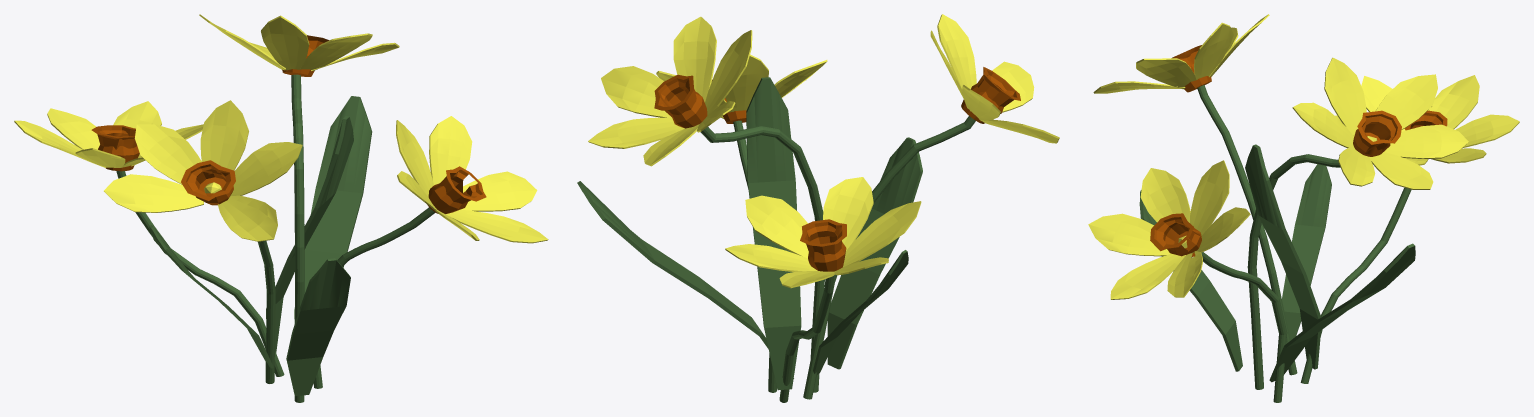
File: flower_with_leaves.fbx
3 views of the same model, side by side, from view 1: azimuth 30°, elevation 25°; view 2: azimuth 150°, elevation 25°; view 3: azimuth 270°, elevation 25° (orthographic). The views are drawn at different scales.
Visible parts, largest first — view 1: polySurface13, polySurface8, polySurface1, polySurface10, polySurface12; view 2: polySurface13, polySurface10, polySurface1, polySurface8, polySurface12; view 3: polySurface13, polySurface10, polySurface12, polySurface8, polySurface1.
Boxes of the visible parts, box(x1,y1,x2,y2) form: polySurface13: box(14, 14, 548, 402); polySurface8: box(294, 96, 372, 323); polySurface1: box(286, 258, 350, 396); polySurface10: box(266, 116, 353, 352); polySurface12: box(149, 225, 273, 368); polySurface13: box(588, 14, 1059, 402); polySurface10: box(746, 77, 801, 390); polySurface1: box(827, 137, 922, 369); polySurface8: box(577, 181, 793, 378); polySurface12: box(813, 250, 908, 374); polySurface13: box(1088, 14, 1519, 402); polySurface10: box(1245, 144, 1321, 369); polySurface12: box(1282, 164, 1331, 340); polySurface8: box(1269, 243, 1415, 382); polySurface1: box(1139, 190, 1242, 371).
Size of the model in its own units: 23.61 by 19.5 by 22.43.
